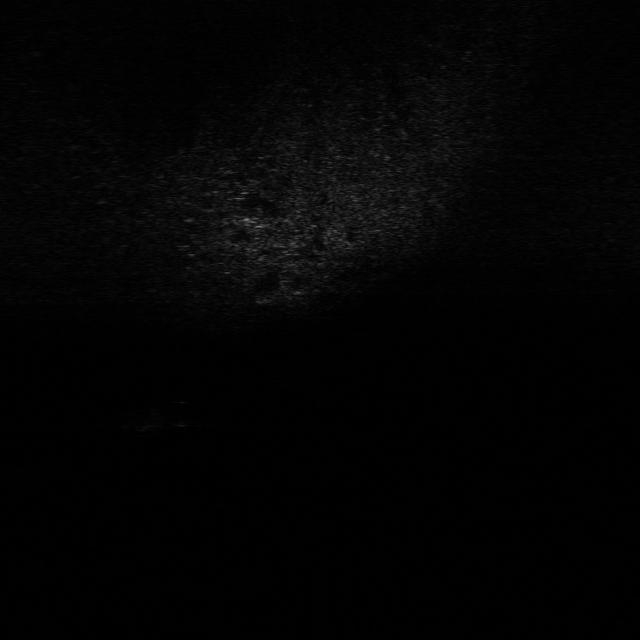ball: (166, 397, 204, 430)
circle cage: (112, 404, 169, 438)
